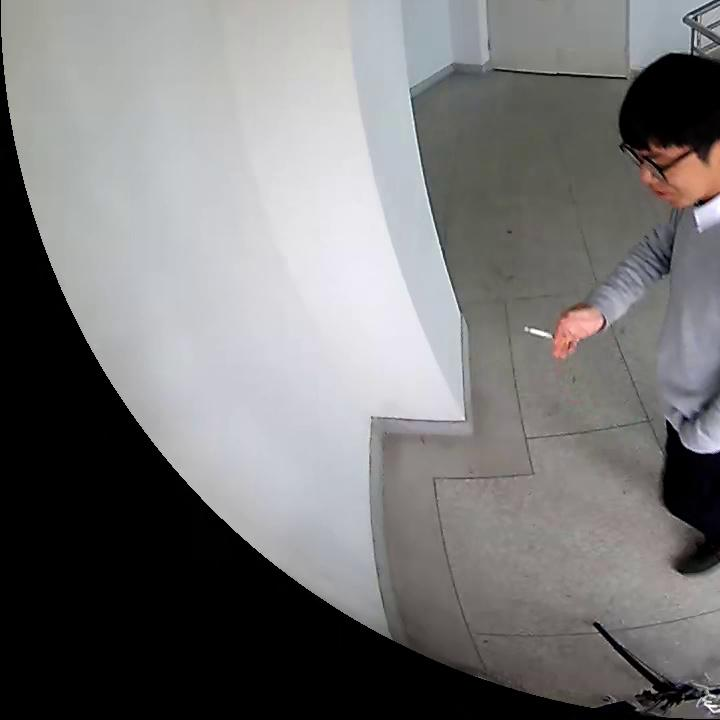handsmoke: (516, 309, 603, 359)
mouthwithoutsmoke: (617, 49, 717, 211)
